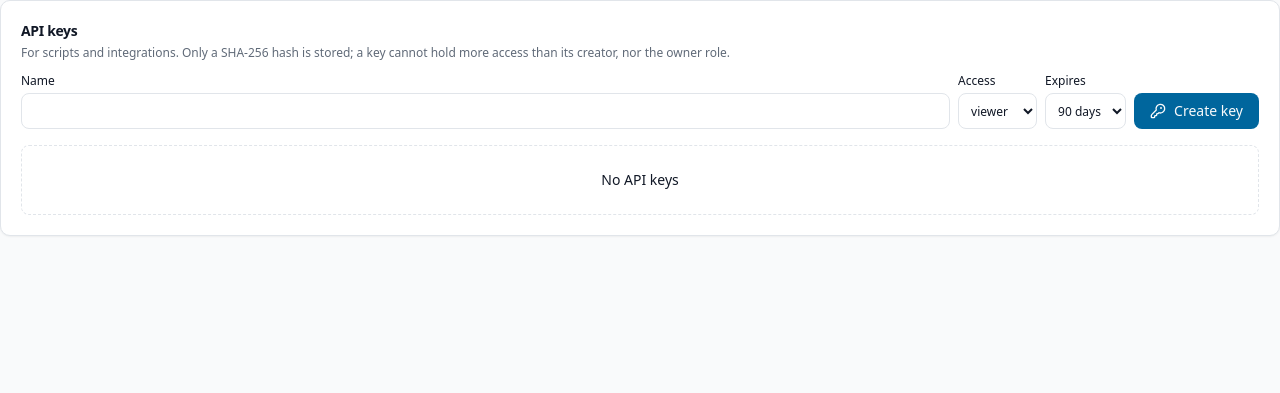
Scenario: settings › shows a new API key exactly once
The width and height of the screenshot is (1280, 393).
Expected: the text "No API keys" is shown, left=601, top=170, right=679, bottom=189
Type "ci" into the field labelled "Name" at (486, 111), box left=21, top=93, right=950, bottom=129
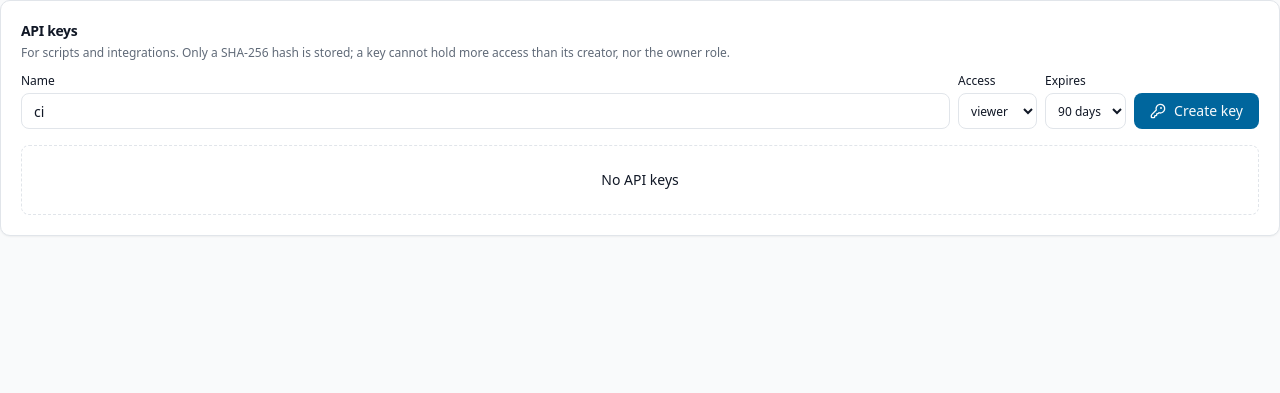
Click the button "Create key" at (1197, 111), box left=1134, top=93, right=1259, bottom=129
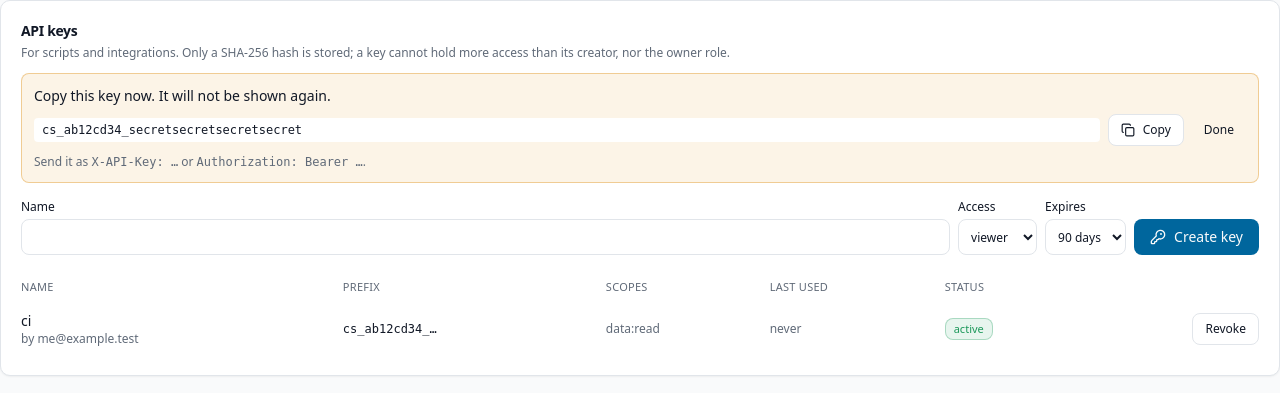
Expected: the message with test id "new-api-key" shows "cs_ab12cd34_secretsecretsecretsecret", left=42, top=123, right=302, bottom=137
Click the button "Done" at (1219, 130), box left=1192, top=114, right=1246, bottom=146
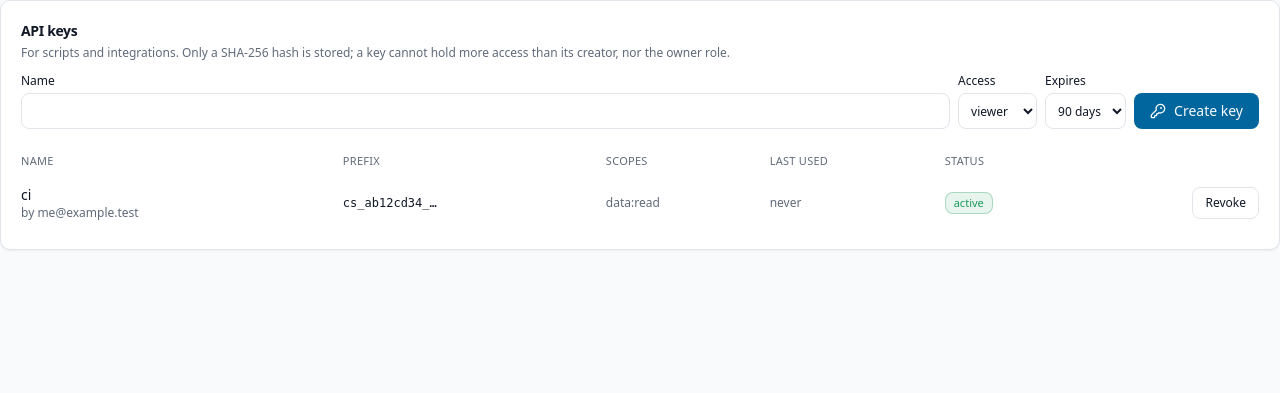
Expected: the text "cs_ab12cd34_…" is shown, left=343, top=177, right=606, bottom=229
Expected: the message with test id "new-api-key" is gone
Expected: the text "secretsecret" is gone
